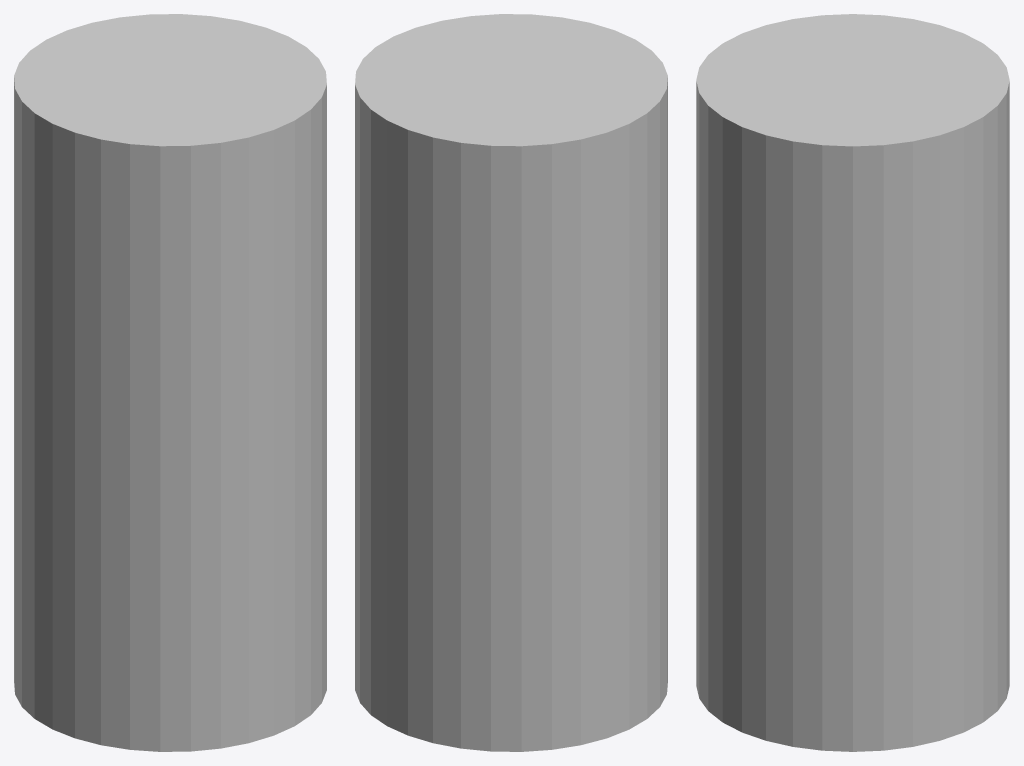
Rendered from pillar.fbx.
3 views of the same model, side by side, from view 1: azimuth 30°, elevation 25°; view 2: azimuth 150°, elevation 25°; view 3: azimuth 270°, elevation 25° (orthographic).
Visible parts, largest first — view 1: 円柱; view 2: 円柱; view 3: 円柱.
Boxes of the visible parts, box(x1,y1,x2,y2) form: 円柱: box(14, 14, 326, 751); 円柱: box(355, 14, 667, 751); 円柱: box(696, 14, 1009, 751).
Size of the model in its own units: 2276 by 4852 by 2276.
